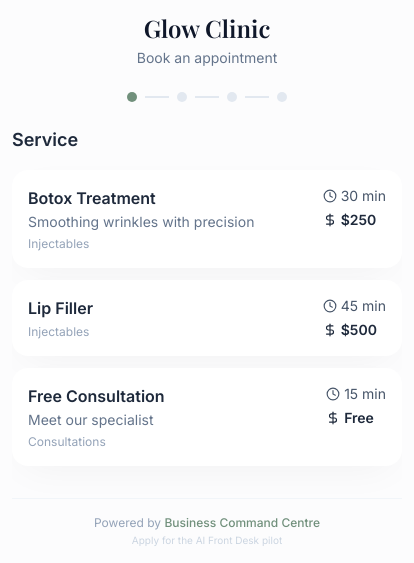
Test: BookingPortalPage › Step 1: Service Selection › selects a service and advances to datetime step
Click the text "Botox Treatment". click: (92, 198)
box: [28,188,156,208]
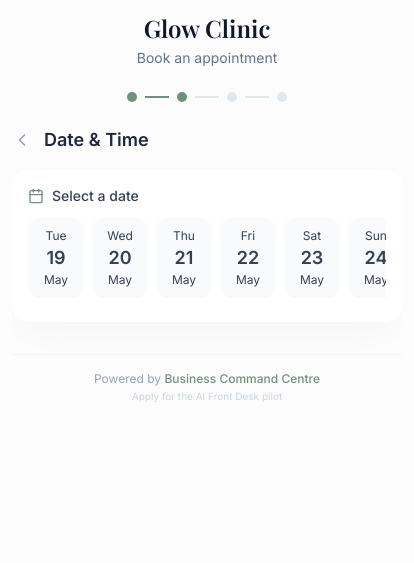
Result: the heading "Date & Time" is shown at [44,126,149,154]
